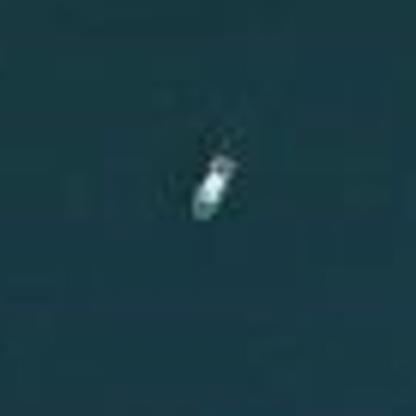ship: (182, 148, 242, 231)
